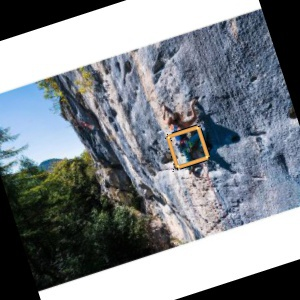square: (162, 124, 213, 172)
